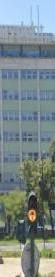yellow_light: (27, 192, 38, 236)
